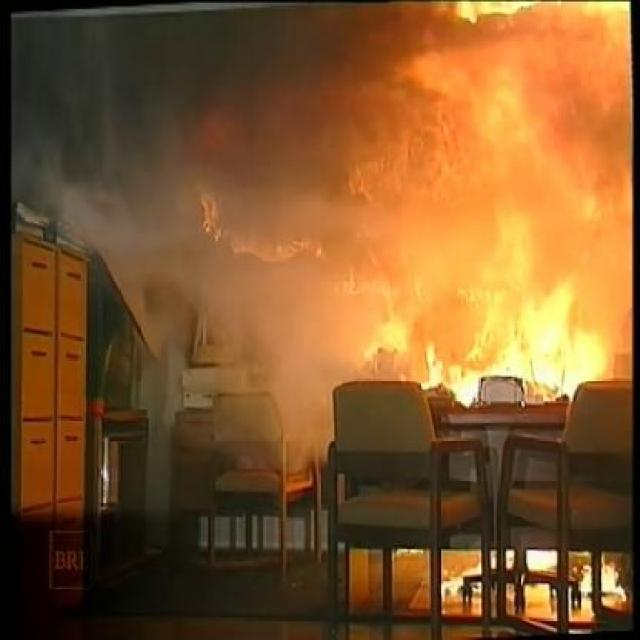fire: (388, 48, 570, 327)
smoke: (26, 55, 176, 224), (141, 254, 317, 380)
